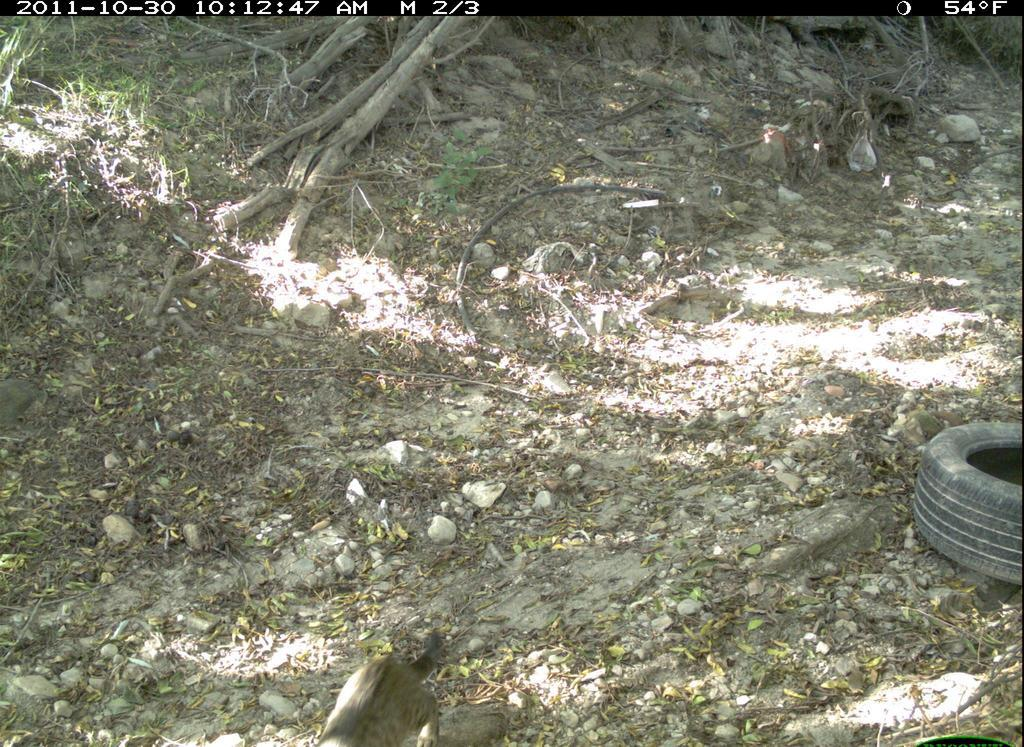cat: (315, 621, 466, 747)
